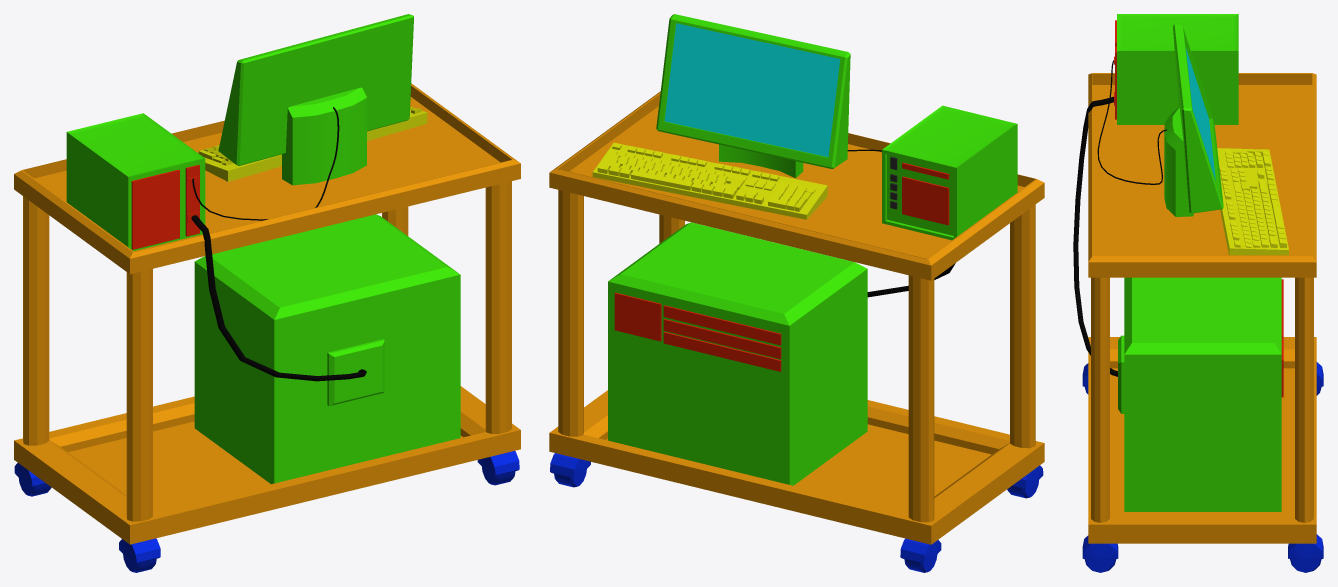
The model's file is Portable_Computer.fbx.
3 renders of one model, left to right at view 1: azimuth 30°, elevation 25°; view 2: azimuth 150°, elevation 25°; view 3: azimuth 270°, elevation 25°, orthographic. The views are drawn at different scales.
Parts seen in each view (by area): view 1: Portable_Computer1; view 2: Portable_Computer1; view 3: Portable_Computer1.
Part boxes in pixels (left/top/right/bottom): Portable_Computer1: left=14, top=14, right=520, bottom=572; Portable_Computer1: left=549, top=14, right=1044, bottom=572; Portable_Computer1: left=1073, top=14, right=1323, bottom=572.
Size of the model in its own units: 1.31 by 1.44 by 0.7392.
